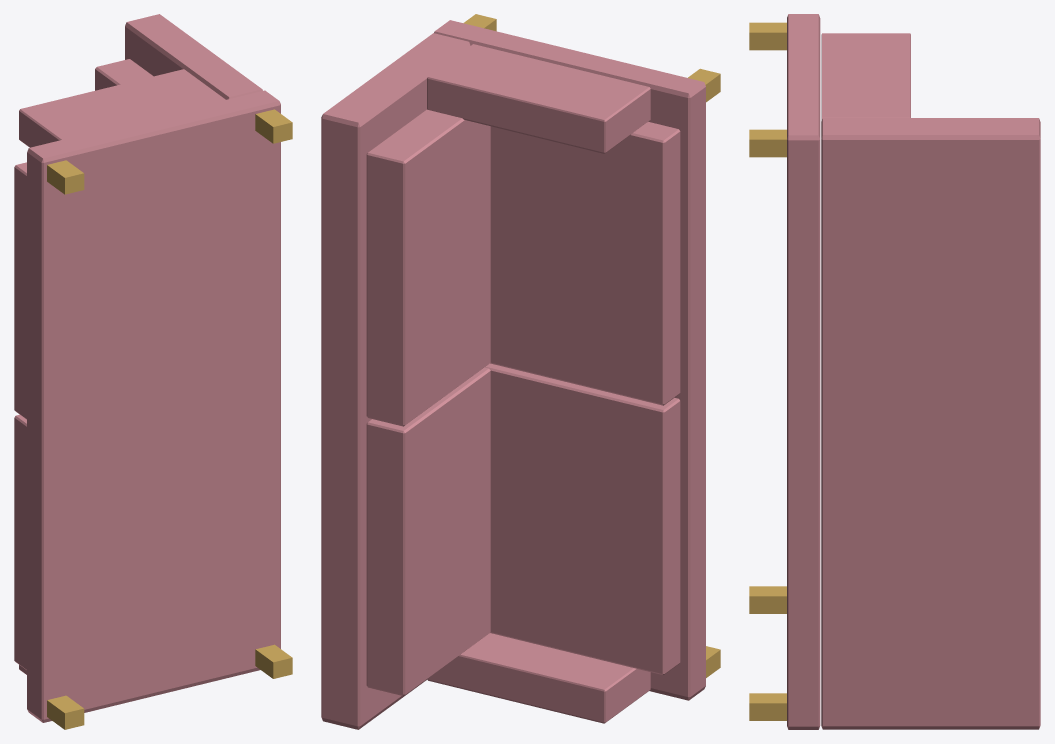
Rendered from Sofa 1.fbx.
3 views of the same model, side by side, from view 1: azimuth 30°, elevation 25°; view 2: azimuth 150°, elevation 25°; view 3: azimuth 270°, elevation 25° (orthographic). The views are drawn at different scales.
Parts seen in each view (by area): view 1: Sofa; view 2: Sofa; view 3: Sofa.
Boxes of the visible parts, x1,y1,x2,y2 form: Sofa: (14, 14, 292, 729); Sofa: (321, 14, 720, 729); Sofa: (749, 14, 1040, 729).
Size of the model in its own units: 1.01 by 2.29 by 1.02.
